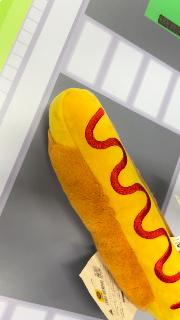hotdog: (47, 87, 179, 319)
